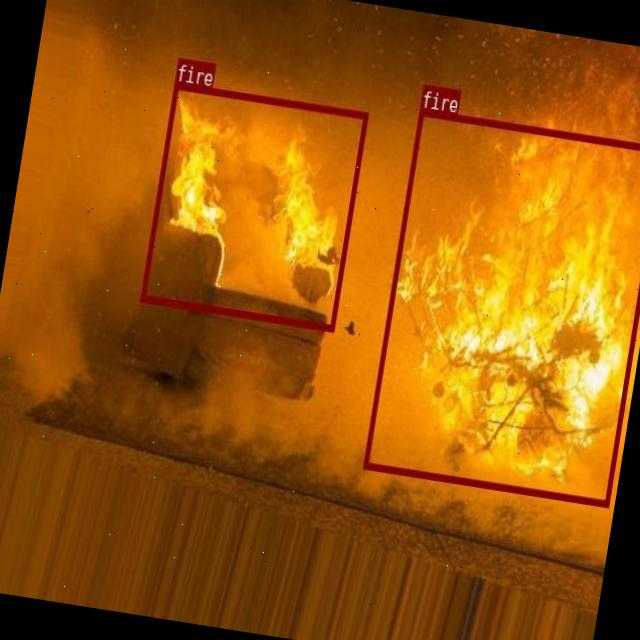fire: (362, 109, 640, 506), (140, 81, 368, 332)
